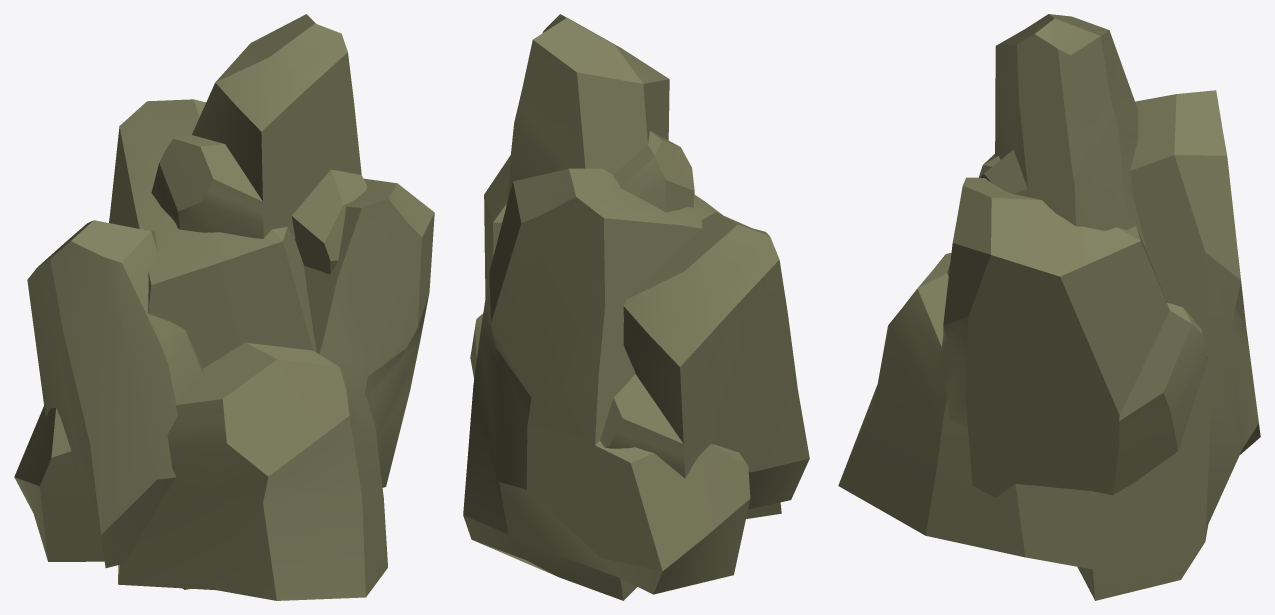
Rendered from rock_03.fbx.
The picture shows the model from 3 angles, left to right: view 1: azimuth 30°, elevation 25°; view 2: azimuth 150°, elevation 25°; view 3: azimuth 270°, elevation 25°; orthographic projection. The views are drawn at different scales.
Parts seen in each view (by area): view 1: rock_03; view 2: rock_03; view 3: rock_03.
Boxes of the visible parts, box(x1,y1,x2,y2) form: rock_03: box(14, 14, 434, 600); rock_03: box(463, 14, 809, 600); rock_03: box(838, 14, 1260, 600).
Bounding box in the file's own units: 0.6496 × 1.01 × 0.6908.
